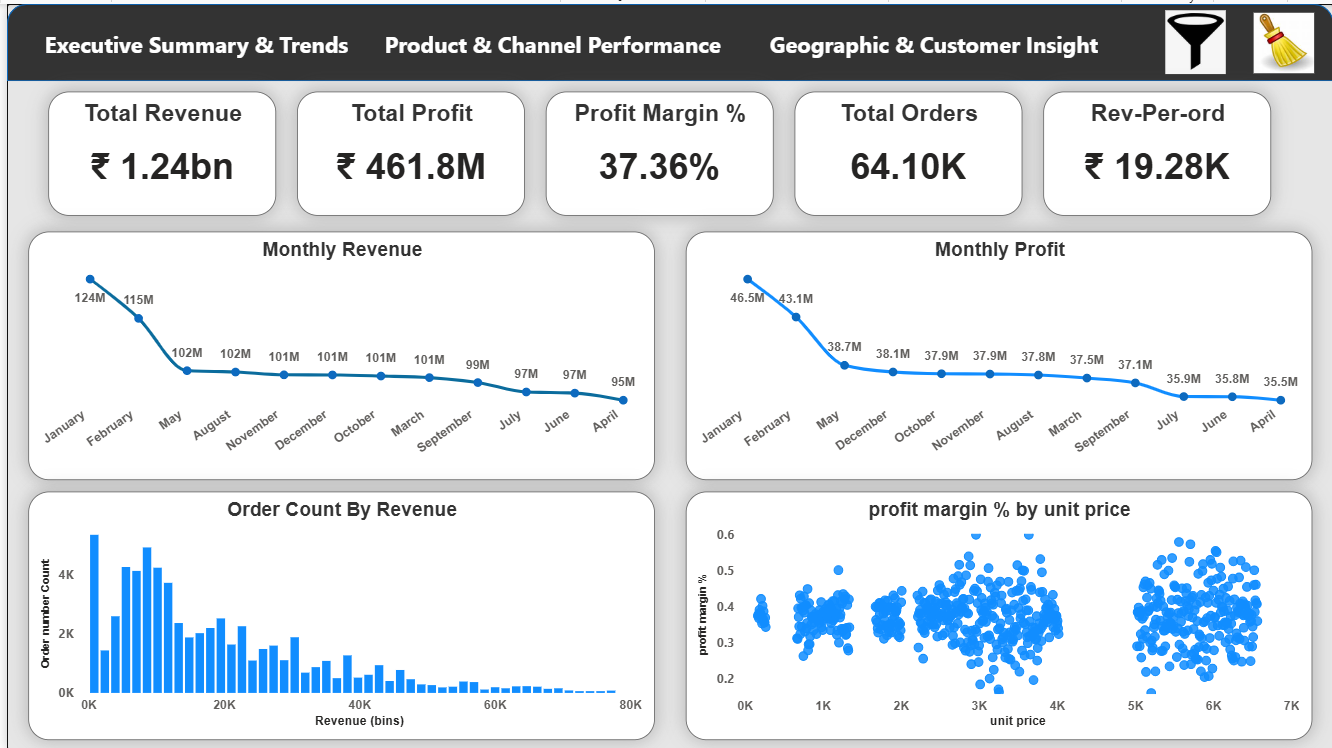

Layout of this report page (visuals, bound fields, positions):
{"tool":"powerbi","page":{"name":"Executive Summary & Trends","canvas":[1280,720],"ordinal":0},"visuals":[{"type":"shape","box":[0,0,1280.3,74.6],"z":0},{"type":"image","title":"Fillter","box":[1110,6.2,73.8,61.2],"z":1000},{"type":"image","title":"Clear","box":[1197.2,8.6,70.9,58.7],"z":2000},{"type":"textbox","box":[31.8,19.6,310.6,47.7],"z":3000},{"type":"textbox","box":[359.5,19.6,351,47.7],"z":4000},{"type":"textbox","box":[731.3,19.6,371.7,47.7],"z":5000},{"type":"actionButton","box":[359.5,14.7,351,47.7],"z":6000},{"type":"actionButton","box":[722.7,19.6,351,47.7],"z":7000},{"type":"cardVisual","title":"Total Revenue","fields":{"Data":["Sum(B2_Mini_Mart.Revenue)"]},"box":[40,85,220,120],"z":8000},{"type":"cardVisual","title":"Total Profit","fields":{"Data":["Sum(B2_Mini_Mart.Profit)"]},"box":[280,85,220,120],"z":9000},{"type":"cardVisual","title":"Profit Margin %","fields":{"Data":["Measure Table.profit_margin"]},"box":[520,85,220,120],"z":10000},{"type":"cardVisual","title":"Total Orders","fields":{"Data":["CountNonNull(B2_Mini_Mart.ordernumber)"]},"box":[760,85,220,120],"z":11000},{"type":"cardVisual","title":"Rev-Per-ord","fields":{"Data":["Measure Table.Revenue Per Order"]},"box":[1000,85,220,120],"z":12000},{"type":"lineChart","title":"Monthly Revenue","fields":{"Category":["B2_Mini_Mart.month_name"],"Y":["Sum(B2_Mini_Mart.Revenue)"]},"box":[20.5,220,605,240],"z":13000},{"type":"lineChart","title":"Monthly Profit","fields":{"Category":["B2_Mini_Mart.month_name"],"Y":["Sum(B2_Mini_Mart.Profit)"]},"box":[655,220,605,240],"z":14000},{"type":"clusteredColumnChart","title":"Order Count By Revenue","fields":{"Category":["B2_Mini_Mart.Revenue (bins)"],"Y":["CountNonNull(B2_Mini_Mart.ordernumber)"]},"box":[20.5,470,604.4,240],"z":15000},{"type":"scatterChart","fields":{"Y":["Measure Table.profit_margin"],"X":["B2_Mini_Mart.unit_price"]},"box":[655.1,470.5,604.4,240.1],"z":16000}]}

Visuals, with their boxes in screenshot pixels (x1, y1, x2, y2), scaled from the page's 1280x720 canvas onto the 1332x748 screenshot:
shape: 0,0,1331,78
"Fillter" image: 1155,6,1232,70
"Clear" image: 1246,9,1320,70
textbox: 33,20,356,70
textbox: 374,20,739,70
textbox: 761,20,1148,70
actionButton: 374,15,739,65
actionButton: 752,20,1117,70
"Total Revenue" cardVisual: 42,88,271,213
"Total Profit" cardVisual: 291,88,520,213
"Profit Margin %" cardVisual: 541,88,770,213
"Total Orders" cardVisual: 791,88,1020,213
"Rev-Per-ord" cardVisual: 1041,88,1270,213
"Monthly Revenue" lineChart: 21,229,651,478
"Monthly Profit" lineChart: 682,229,1311,478
"Order Count By Revenue" clusteredColumnChart: 21,488,650,738
scatterChart - Measure Table.profit_margin x B2_Mini_Mart.unit_price: 682,489,1311,738
